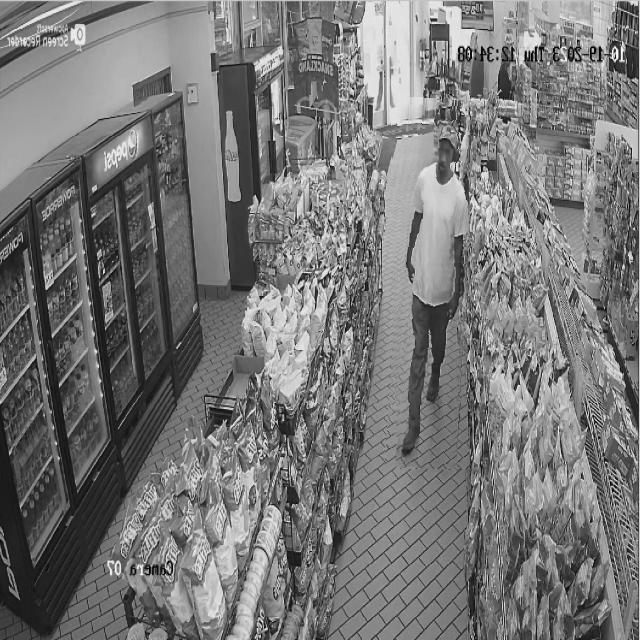Normal: (391, 98, 470, 469)
